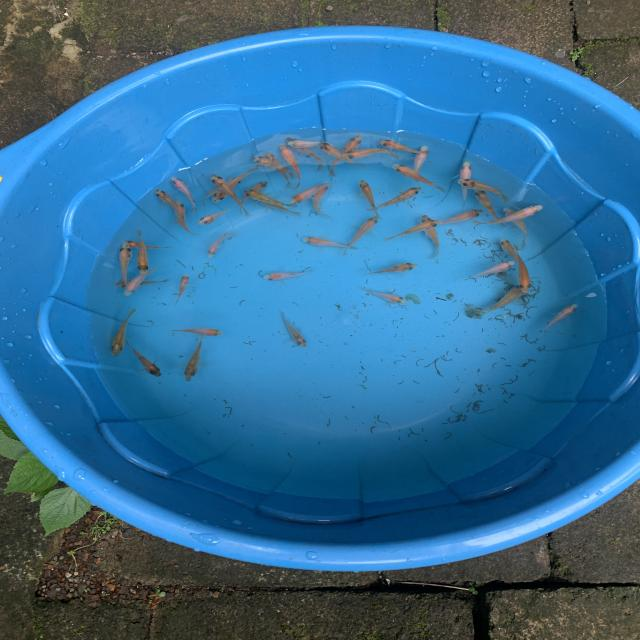nila: (469, 283, 528, 317), (381, 217, 443, 249), (473, 201, 549, 227), (338, 216, 382, 259), (392, 161, 447, 194), (212, 172, 250, 216), (212, 166, 258, 202), (328, 134, 364, 178), (366, 185, 424, 212), (283, 136, 326, 172), (125, 337, 164, 376), (456, 177, 514, 203), (470, 183, 504, 227), (286, 179, 340, 206), (109, 308, 137, 359), (181, 335, 210, 384), (167, 174, 201, 215), (123, 265, 161, 301), (417, 213, 444, 262), (498, 206, 530, 247), (461, 258, 515, 282), (200, 174, 246, 202), (317, 140, 363, 168), (360, 259, 421, 280), (234, 178, 272, 211), (540, 302, 580, 333), (512, 240, 534, 295), (171, 199, 202, 238), (278, 311, 309, 350), (278, 144, 305, 188), (357, 285, 411, 307), (262, 151, 293, 188), (259, 266, 321, 284), (255, 195, 303, 218), (249, 156, 296, 179), (242, 188, 296, 208), (432, 208, 486, 228), (154, 188, 182, 226), (454, 157, 476, 205), (496, 234, 526, 269), (358, 178, 384, 218), (378, 136, 428, 156), (311, 181, 337, 219), (300, 236, 359, 252), (340, 147, 402, 162), (207, 232, 240, 260), (112, 276, 178, 290), (118, 238, 134, 294), (195, 206, 235, 227), (410, 143, 430, 184), (168, 326, 227, 338), (286, 137, 339, 150), (138, 231, 152, 278), (126, 239, 174, 252), (173, 274, 193, 304)
